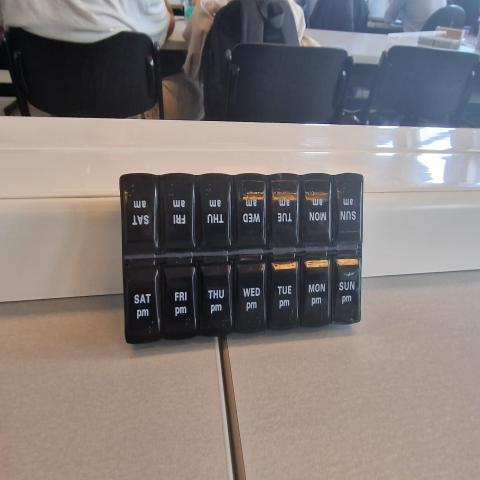PillBox: (110, 160, 394, 349)
